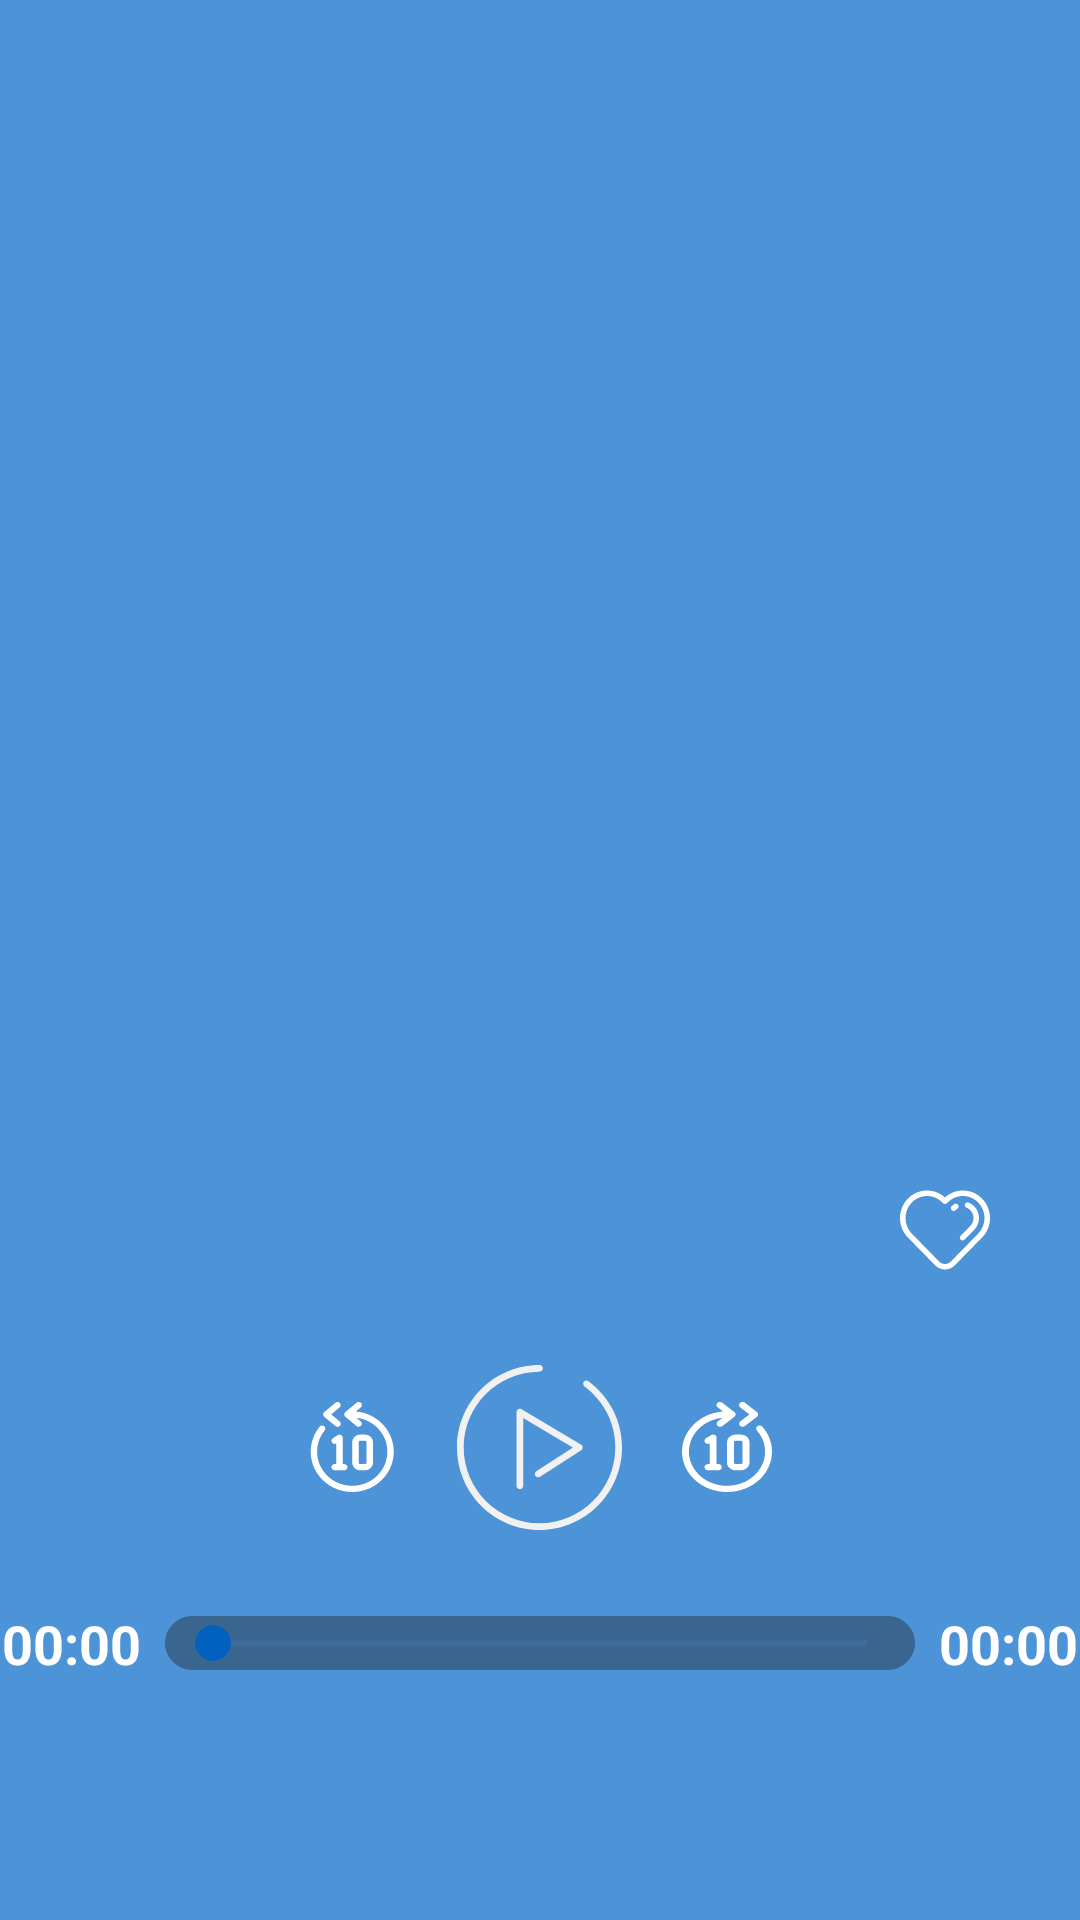

Where icons sit on this 1080w x 1920h app screen, as (x1, y1, x2, y2):
back ten: (310, 1402, 394, 1492)
favorite: (900, 1190, 990, 1270)
play: (457, 1365, 622, 1530)
skip ten: (682, 1402, 772, 1492)
